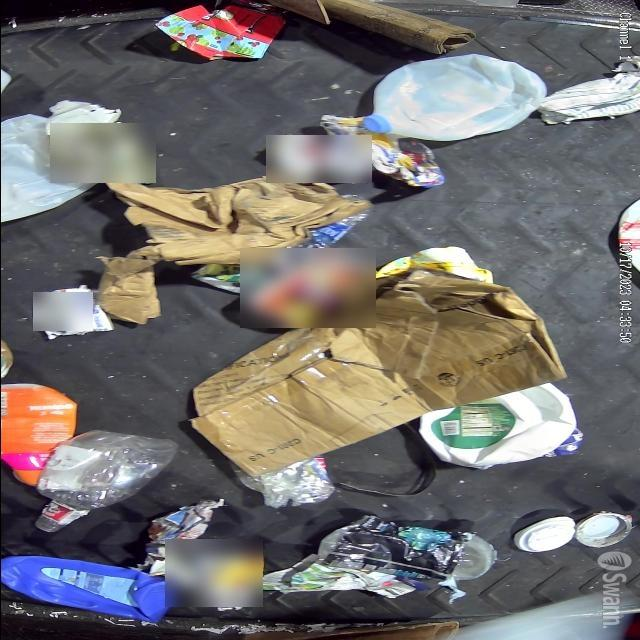milk_jug: (371, 56, 544, 142), (418, 383, 576, 468), (0, 114, 98, 224)
non_white_jug: (0, 556, 176, 624)
